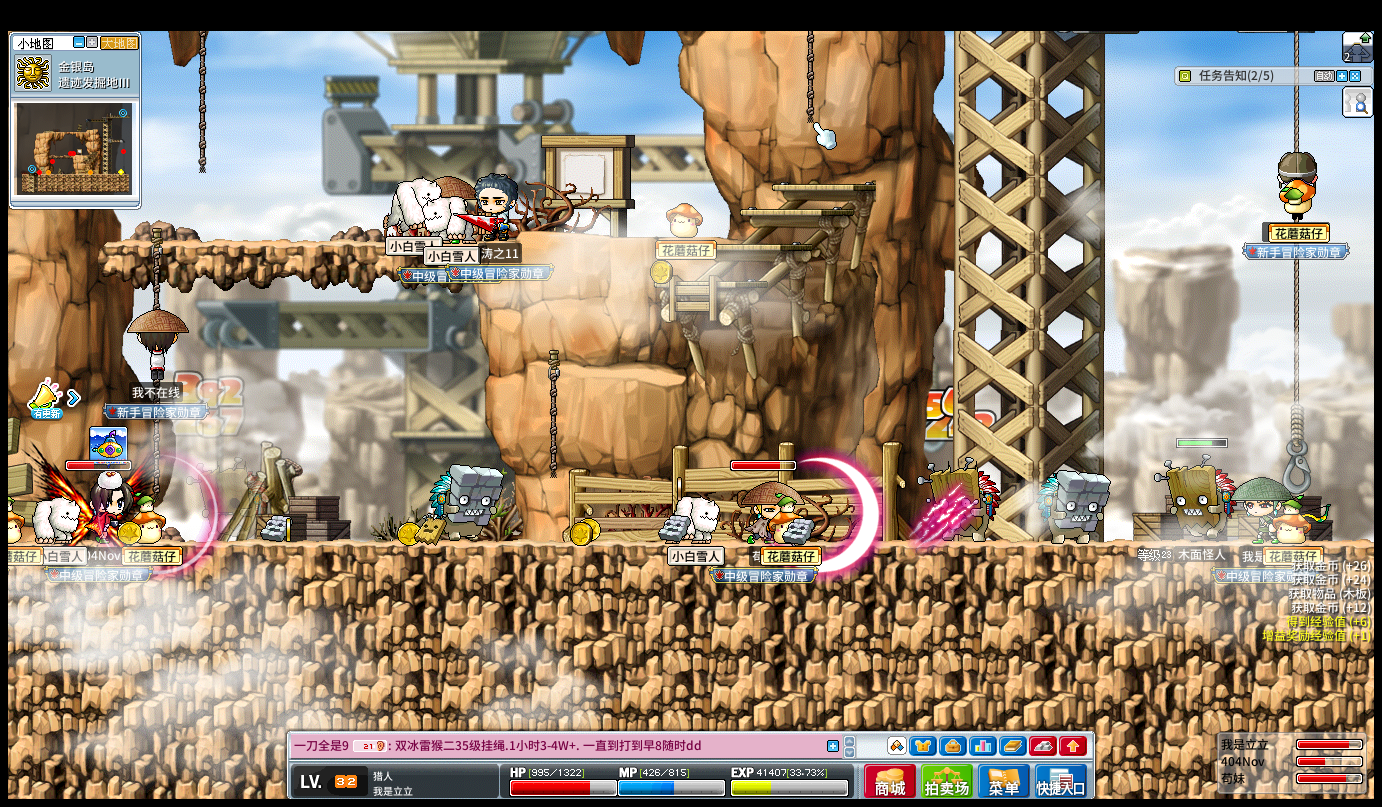floor: (103, 239, 470, 248), (579, 364, 688, 385), (602, 232, 742, 241), (650, 279, 763, 288), (735, 207, 848, 215), (706, 243, 809, 251), (771, 184, 875, 191)
monster: (1158, 457, 1235, 538), (923, 461, 1000, 540), (429, 463, 503, 542), (1040, 469, 1110, 544)
rope: (546, 350, 561, 483), (1292, 256, 1304, 414), (1291, 257, 1301, 409), (198, 29, 207, 174), (150, 227, 161, 308), (1292, 29, 1299, 148), (805, 29, 813, 123), (1288, 403, 1304, 443), (151, 420, 159, 481)
